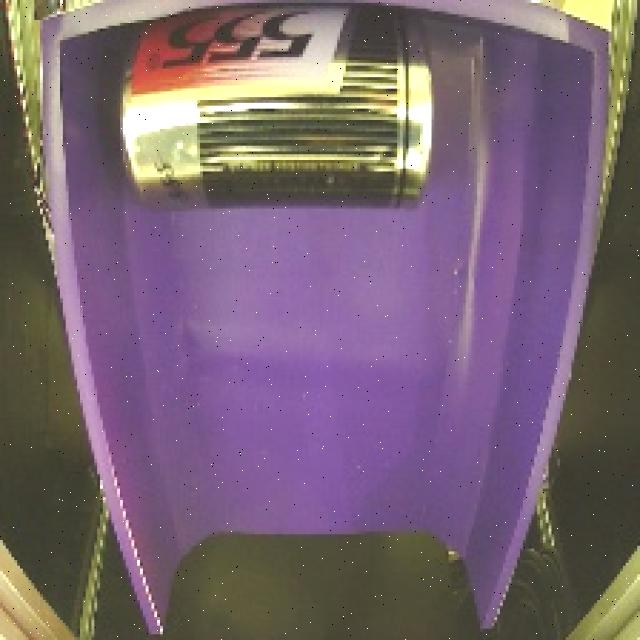battery: (114, 0, 441, 222)
